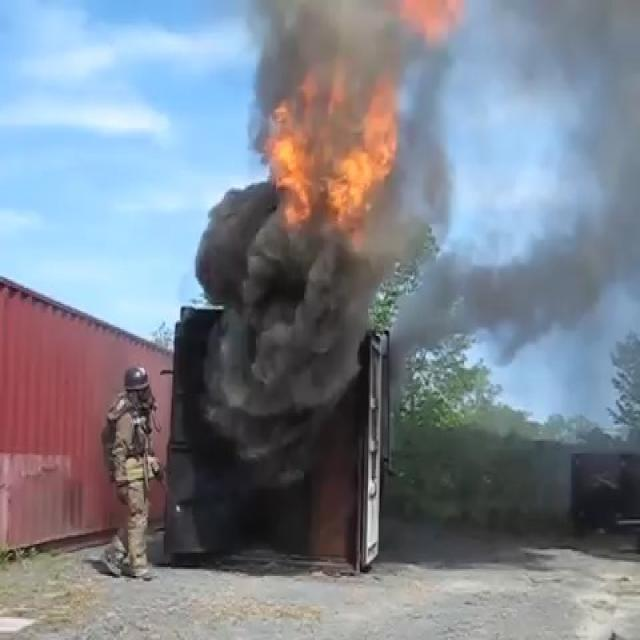Smoke: (204, 192, 366, 466)
